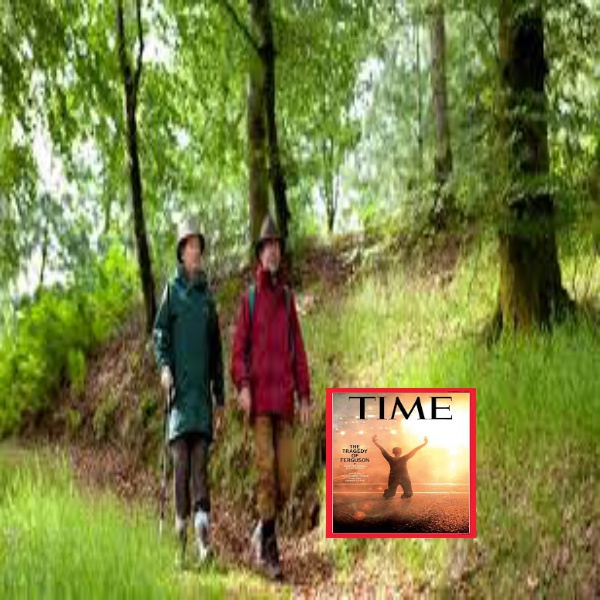time_cover: (322, 380, 473, 539)
